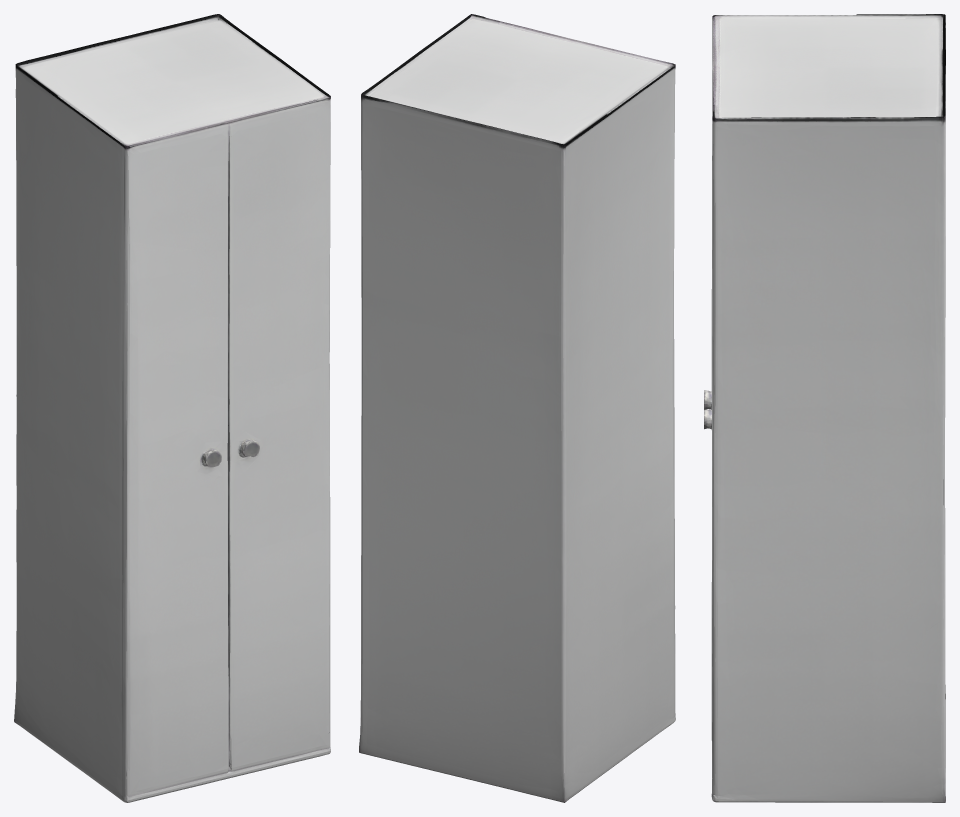
Rendered from wardrobes_19053_image_4.glb.
The picture shows the model from 3 angles, left to right: view 1: azimuth 30°, elevation 25°; view 2: azimuth 150°, elevation 25°; view 3: azimuth 270°, elevation 25°; orthographic projection. The views are drawn at different scales.
Visible parts, largest first — view 1: world; view 2: world; view 3: world.
Boxes of the visible parts, x1,y1,x2,y2 form: world: (14, 14, 330, 802); world: (359, 14, 675, 802); world: (704, 14, 945, 802).
Bounding box in the file's own units: 0.3249 × 0.9891 × 0.3163.
Materials: 1 (1 with a texture image).
